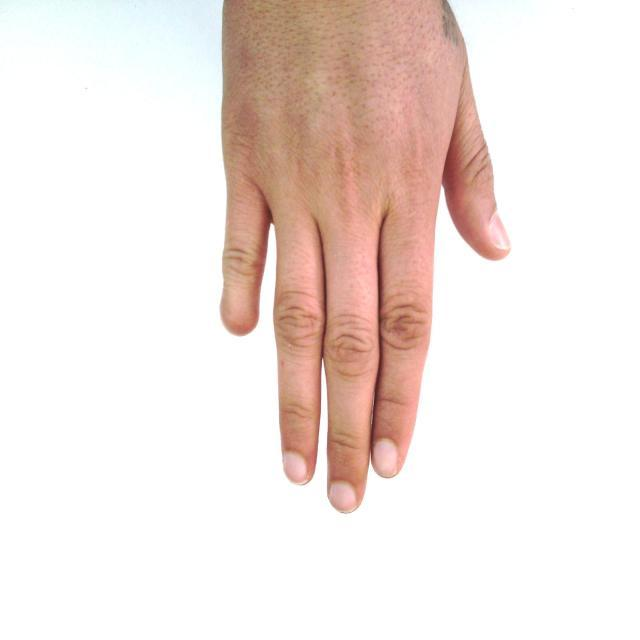Fingernail: (374, 440, 398, 476), (331, 482, 357, 512), (284, 453, 308, 484), (491, 214, 510, 250)
